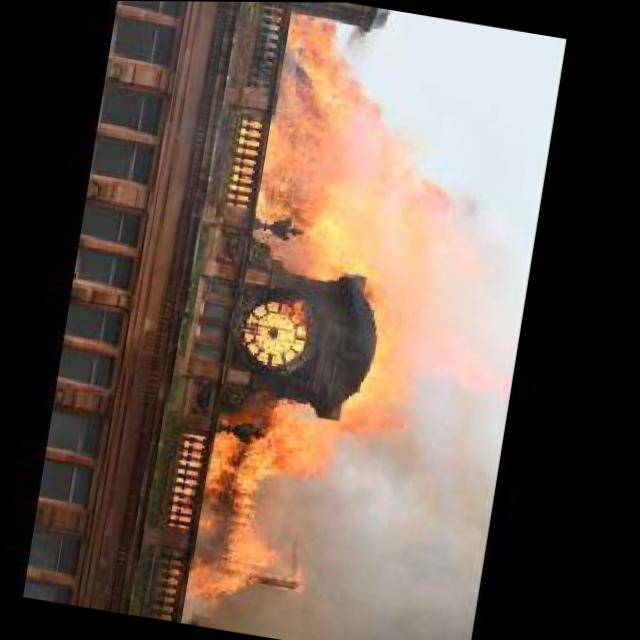Fire: (175, 12, 522, 640)
